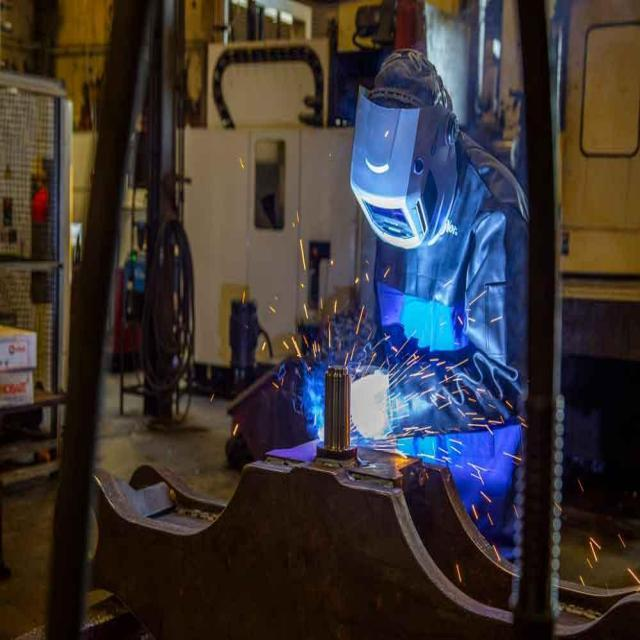with_helmet: (351, 88, 463, 249)
